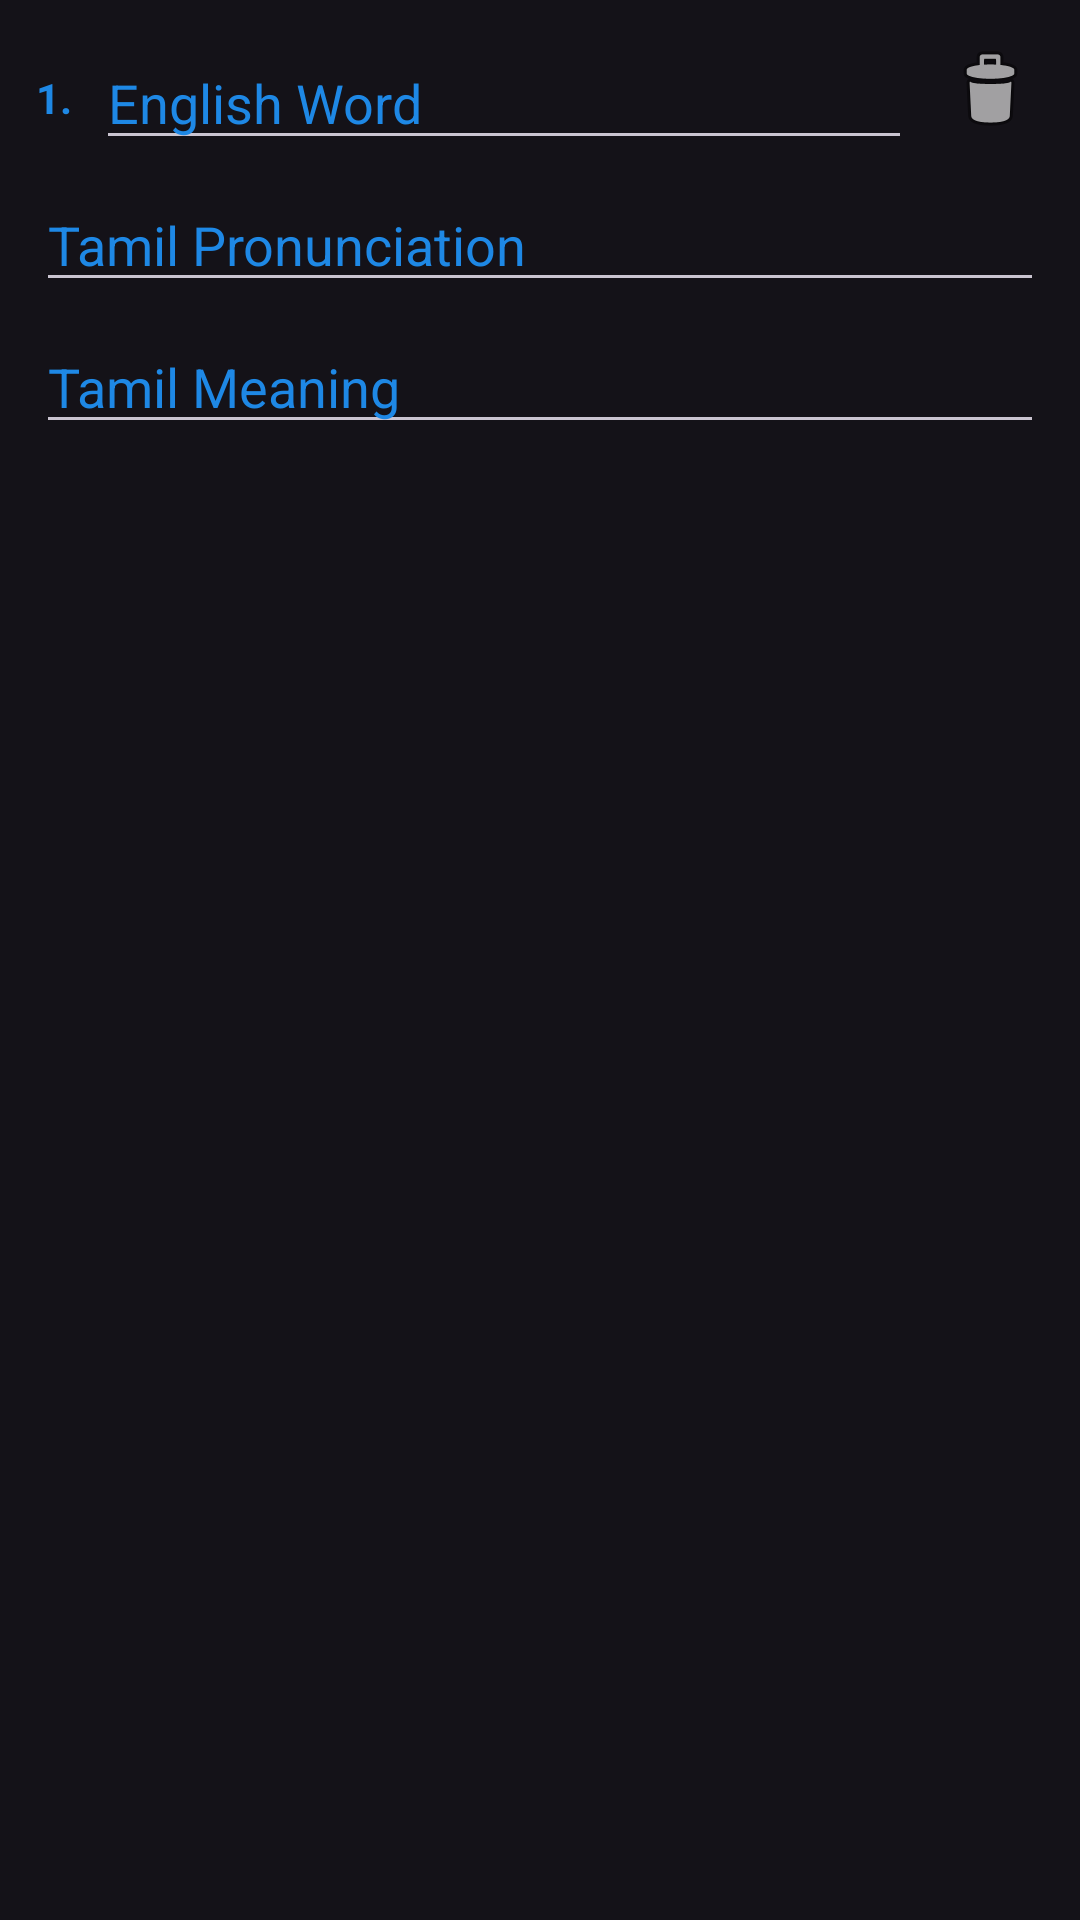

Where icons sit on this 1080*1920 app screen, as rect(x1, y1, x2, y2):
Remove: rect(966, 54, 1015, 123)
